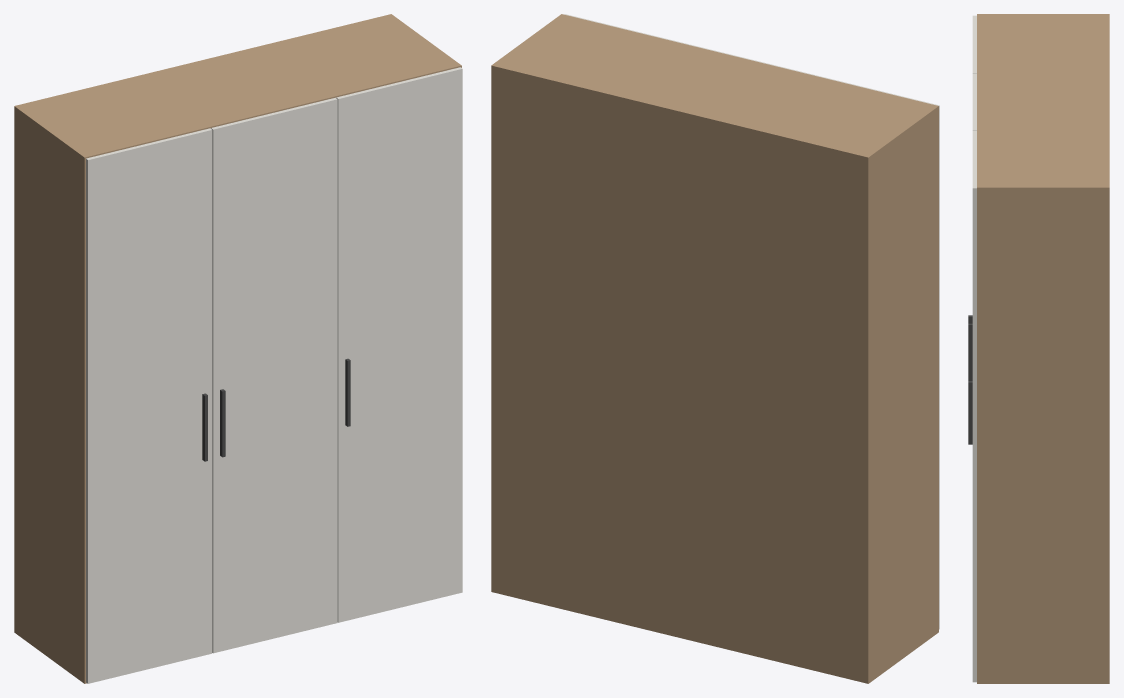
3 views of the same model, side by side, from view 1: azimuth 30°, elevation 25°; view 2: azimuth 150°, elevation 25°; view 3: azimuth 270°, elevation 25° (orthographic). The views are drawn at different scales.
Visible parts, largest first — view 1: door-0, door-2, door-1, carcass; view 2: carcass, door-0; view 3: carcass, door-2, handle-2, door-0, door-1, handle-1.
Boxes of the visible parts, bbox=[...] form: door-0: bbox=[86, 128, 212, 683]; door-2: bbox=[336, 67, 462, 622]; door-1: bbox=[211, 97, 337, 653]; carcass: bbox=[14, 14, 461, 683]; carcass: bbox=[491, 14, 938, 683]; door-0: bbox=[815, 75, 939, 629]; carcass: bbox=[977, 14, 1109, 683]; door-2: bbox=[972, 131, 976, 682]; handle-2: bbox=[968, 381, 972, 444]; door-0: bbox=[972, 15, 976, 73]; door-1: bbox=[972, 73, 976, 130]; handle-1: bbox=[968, 323, 972, 380].
Bounding box in the file's own units: 1.8 × 2.4 × 0.62.
